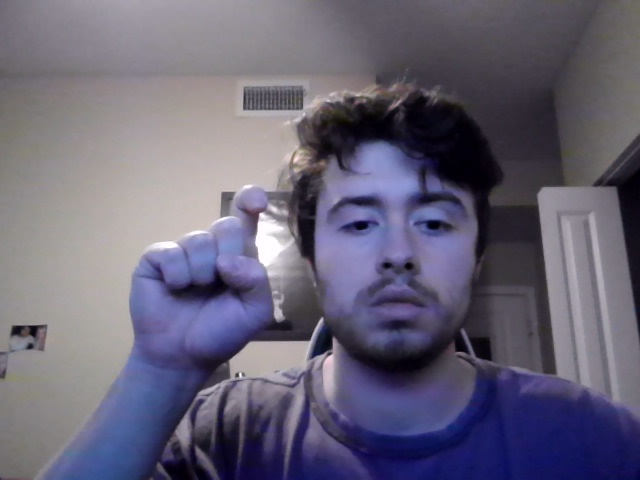x: (128, 183, 276, 411)
